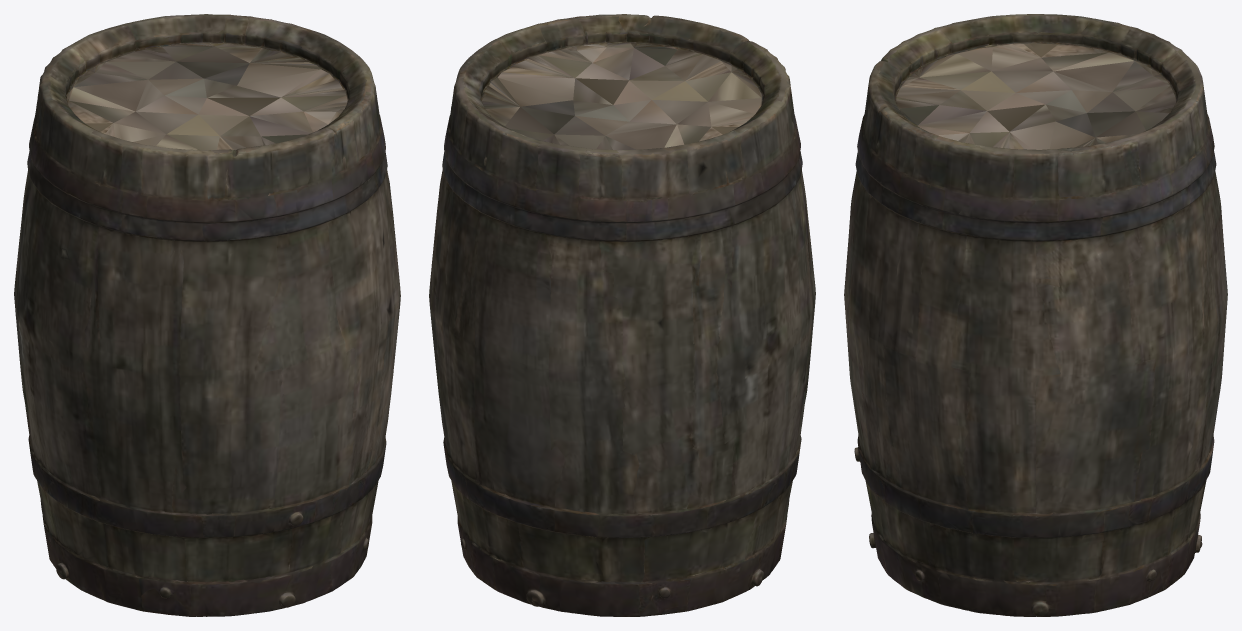
The model's file is r3d_word_barrel.glb.
3 views of the same model, side by side, from view 1: azimuth 30°, elevation 25°; view 2: azimuth 150°, elevation 25°; view 3: azimuth 270°, elevation 25° (orthographic).
Parts seen in each view (by area): view 1: barrel; view 2: barrel; view 3: barrel.
Part boxes in pixels (x1,y1,x2,y2): barrel: (14,14,400,616); barrel: (429,14,815,616); barrel: (844,14,1227,616).
Size of what is drawn, in the model's own units: 0.669 by 0.9001 by 0.669.
Materials: 1 (1 with a texture image).
